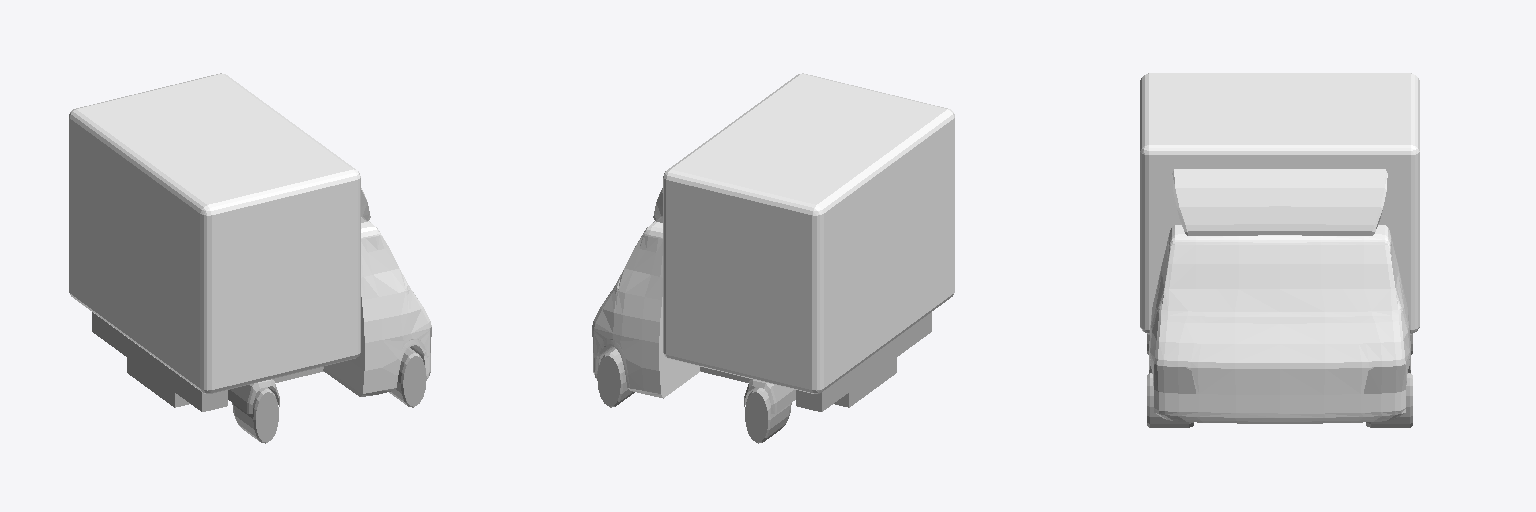
3 views of the same model, side by side, from view 1: azimuth 30°, elevation 25°; view 2: azimuth 150°, elevation 25°; view 3: azimuth 270°, elevation 25° (orthographic).
Parts seen in each view (by area): view 1: truck.002_file.008_file.002; view 2: truck.002_file.008_file.002; view 3: truck.002_file.008_file.002.
Boxes of the visible parts, x1,y1,x2,y2 form: truck.002_file.008_file.002: [69, 73, 431, 443]; truck.002_file.008_file.002: [592, 73, 954, 443]; truck.002_file.008_file.002: [1140, 73, 1419, 427].
Size of the model in its own units: 1 by 1 by 1.